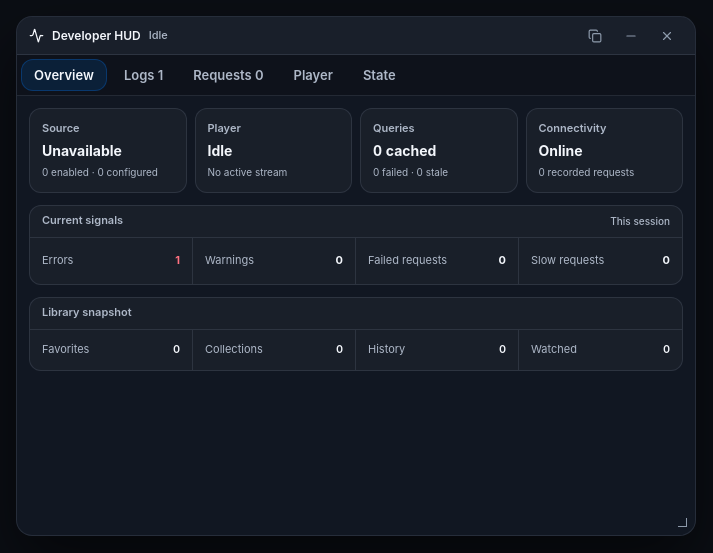
it: Developer HUD › exposes accessible tabs and expands structured log details
expect the element named "Developer HUD sections" is shown: met, box [17,55,695,96]
Click the tab "Logs 1" at (144, 75), box [111,59,176,91]
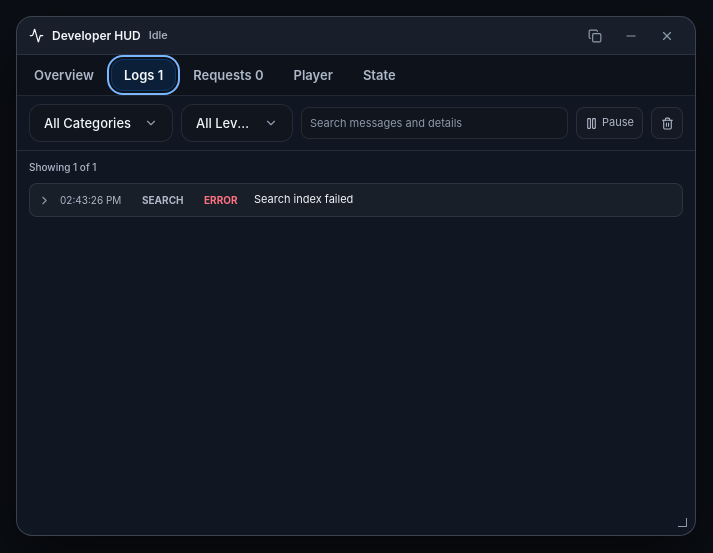
Click the button "02:43:26 PM search error Search index failed" at (356, 200), box [30,184,682,216]
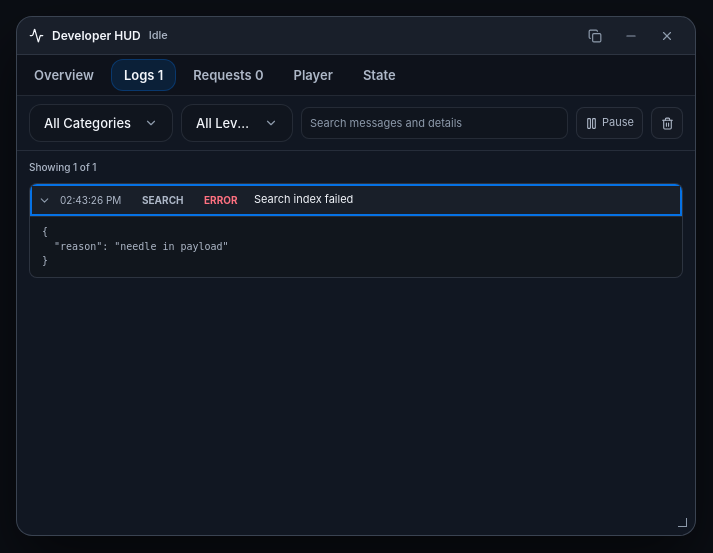
expect the button "All Categories" is shown: met, box [29,104,173,142]
expect the text "{ \"reason\": \"needle in payload\" }" is shown: met, box [30,216,682,276]
